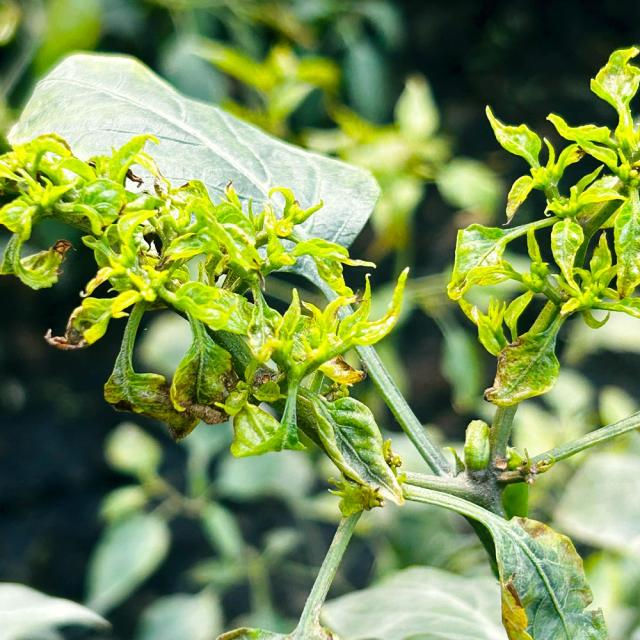Chilli_Leaf_Curl: (1, 43, 638, 637), (1, 128, 412, 504), (5, 49, 382, 271), (445, 44, 639, 407), (396, 473, 608, 639), (295, 388, 406, 511)
